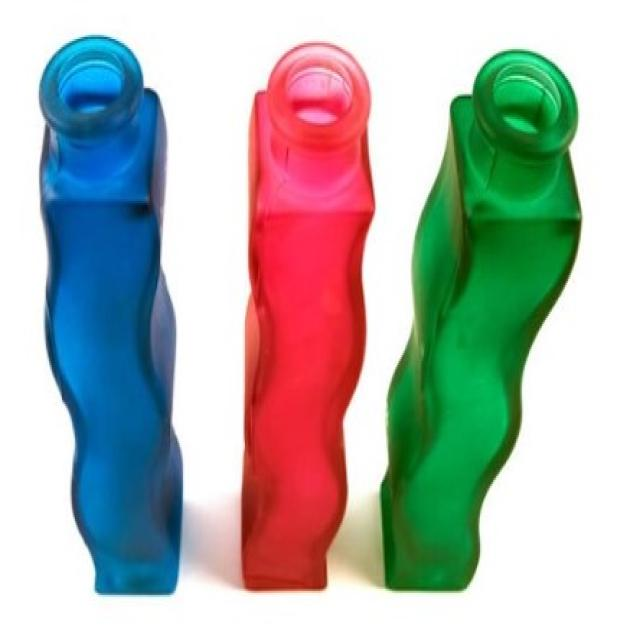electronic: (33, 39, 585, 594)
